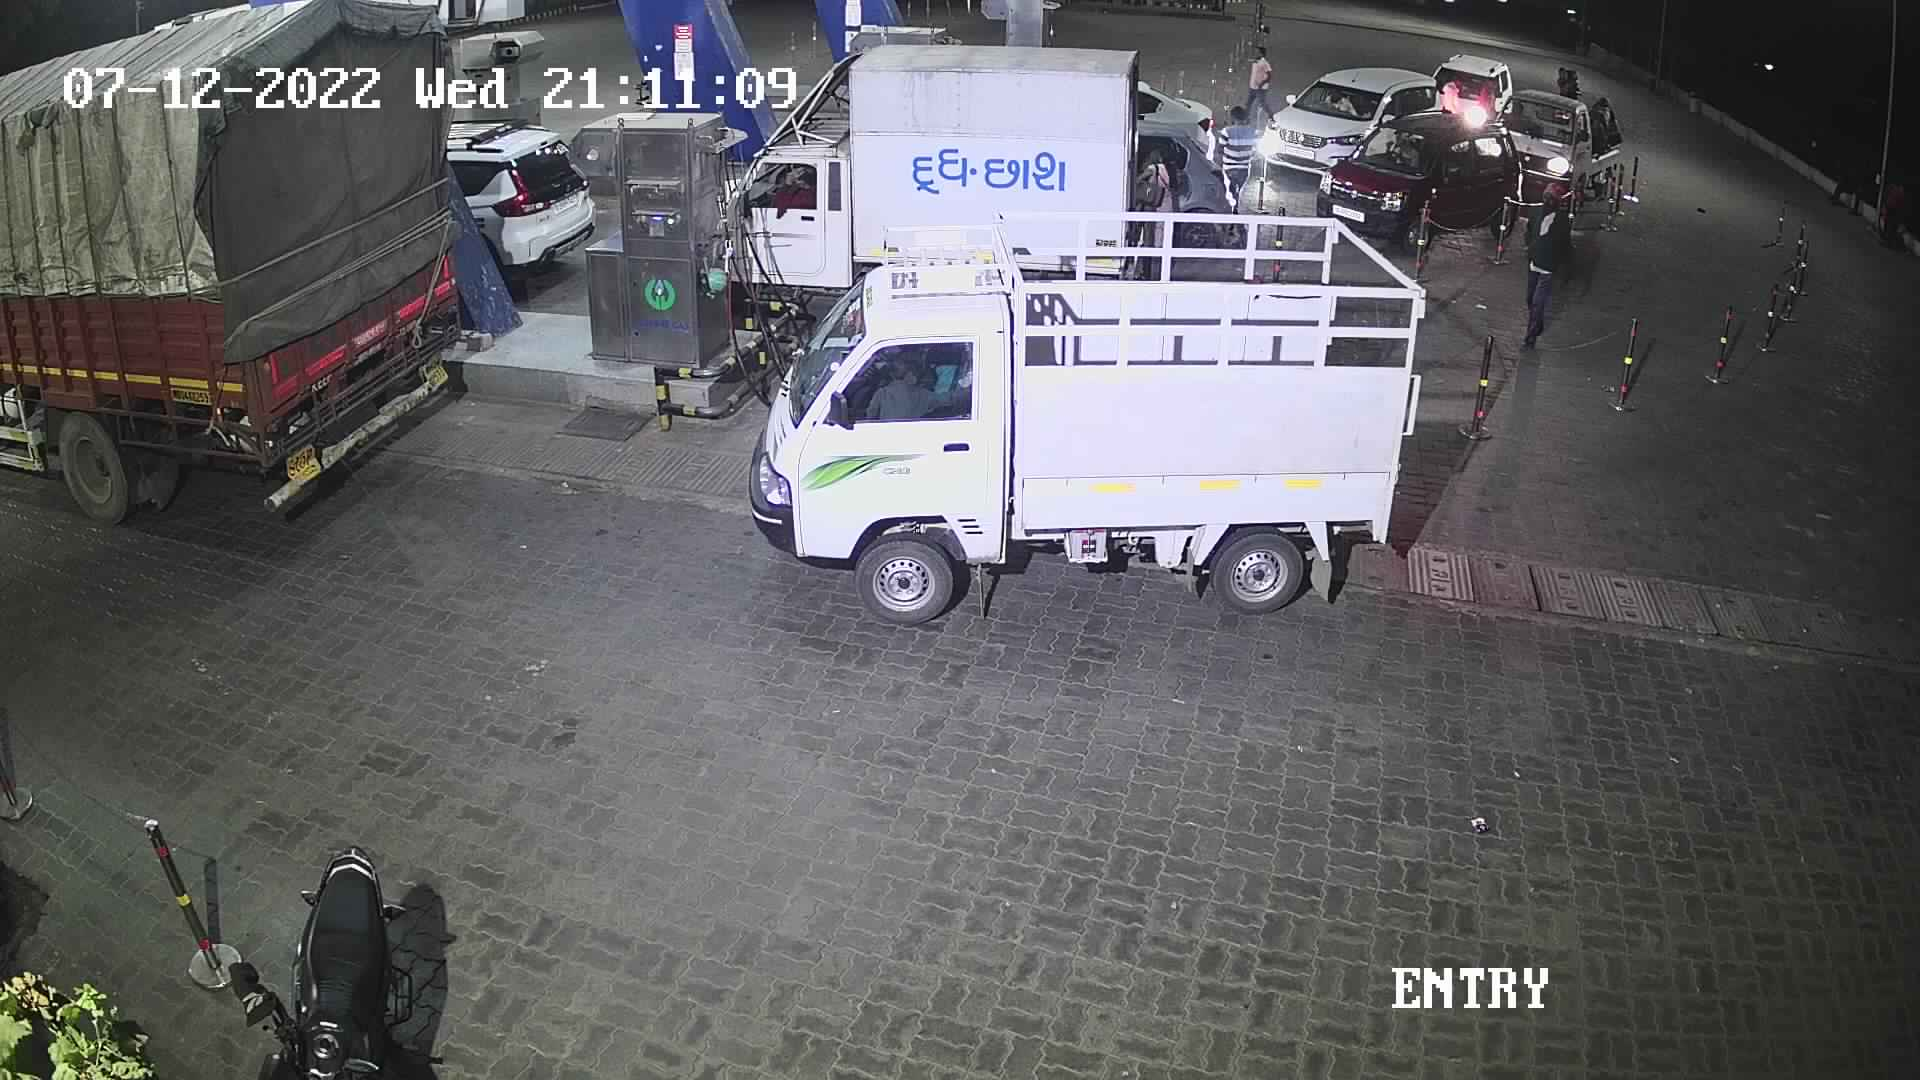Bike: (212, 819, 456, 1076)
Car: (1304, 92, 1538, 264), (426, 90, 605, 307), (1466, 57, 1635, 237), (1238, 57, 1455, 194), (1120, 105, 1251, 260), (1424, 44, 1523, 173), (1124, 69, 1230, 171)
HMV: (740, 191, 1437, 640), (0, 0, 492, 553), (709, 20, 1147, 363)
